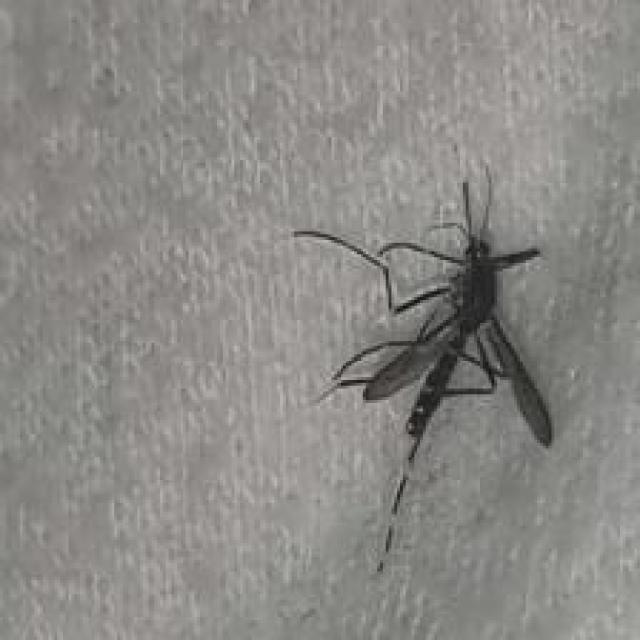Aedes albopictus: (292, 161, 554, 573)
